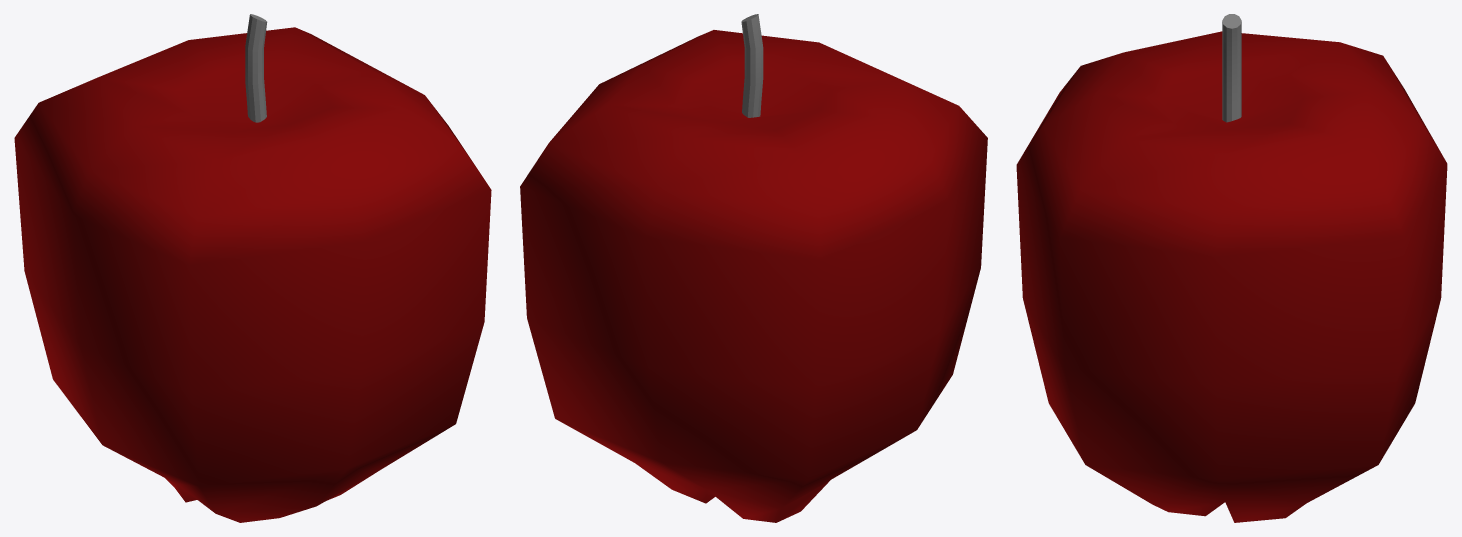
File: fruto.obj
3 renders of one model, left to right at view 1: azimuth 30°, elevation 25°; view 2: azimuth 150°, elevation 25°; view 3: azimuth 270°, elevation 25°, orthographic.
Parts seen in each view (by area): view 1: pCube2; view 2: pCube2; view 3: pCube2.
Boxes of the visible parts, bbox=[...] form: pCube2: bbox=[14, 14, 491, 522]; pCube2: bbox=[520, 14, 987, 522]; pCube2: bbox=[1016, 14, 1447, 522].
Size of the model in its own units: 1.01 by 1.23 by 1.
